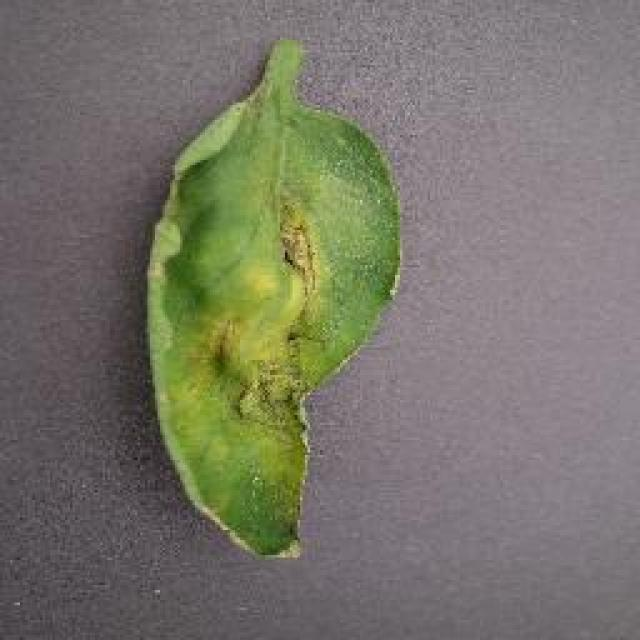Tomato late blight leaf: (144, 101, 404, 564)
